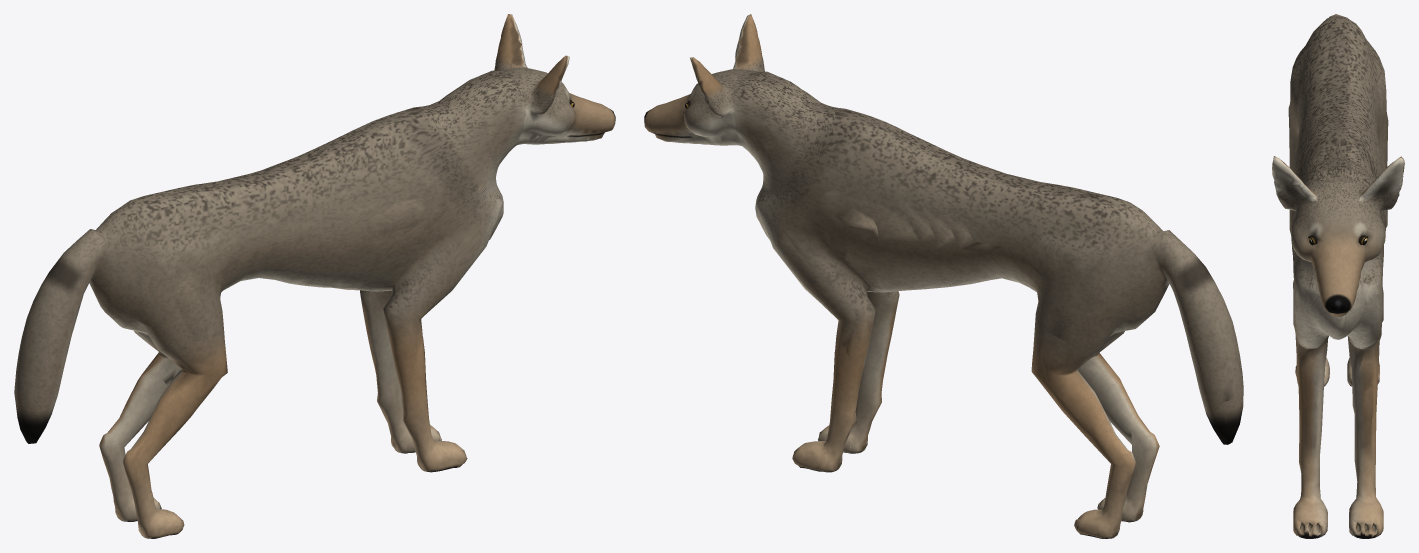
Rendered from wolf_alert.glb.
The picture shows the model from 3 angles, left to right: view 1: azimuth 30°, elevation 25°; view 2: azimuth 150°, elevation 25°; view 3: azimuth 270°, elevation 25°; orthographic projection. The views are drawn at different scales.
Visible parts, largest first — view 1: wolf_alert_mesh; view 2: wolf_alert_mesh; view 3: wolf_alert_mesh.
Part boxes in pixels (x1,y1,x2,y2): wolf_alert_mesh: [14, 14, 615, 538]; wolf_alert_mesh: [644, 14, 1243, 538]; wolf_alert_mesh: [1272, 14, 1404, 538].
Size of the model in its own units: 1.16 by 0.7347 by 0.2042.
Materials: 1 (1 with a texture image).
